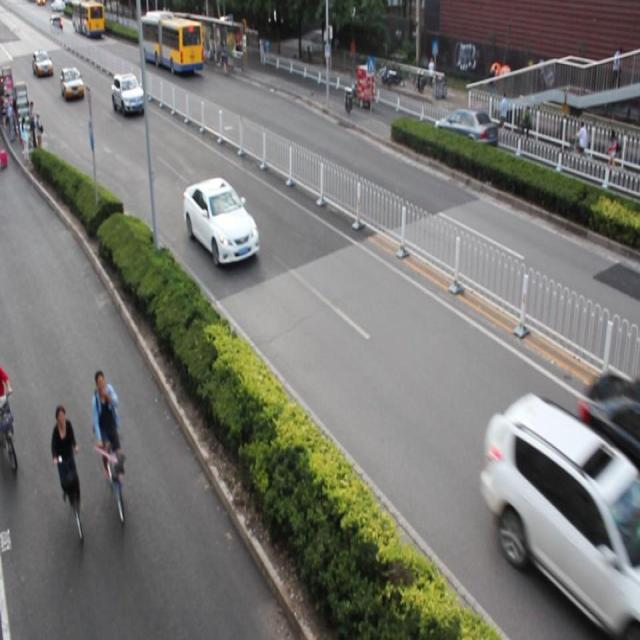car: (481, 394, 639, 640), (578, 370, 640, 507), (184, 177, 258, 266), (432, 105, 495, 159), (110, 73, 144, 115)
van: (138, 10, 204, 71)
